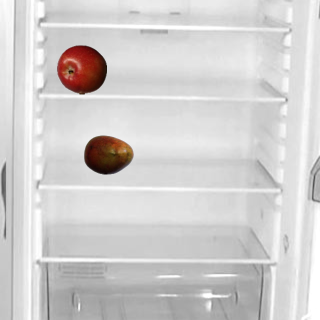Apple Braeburn: (56, 44, 106, 94)
Mango Red: (83, 129, 133, 179)
